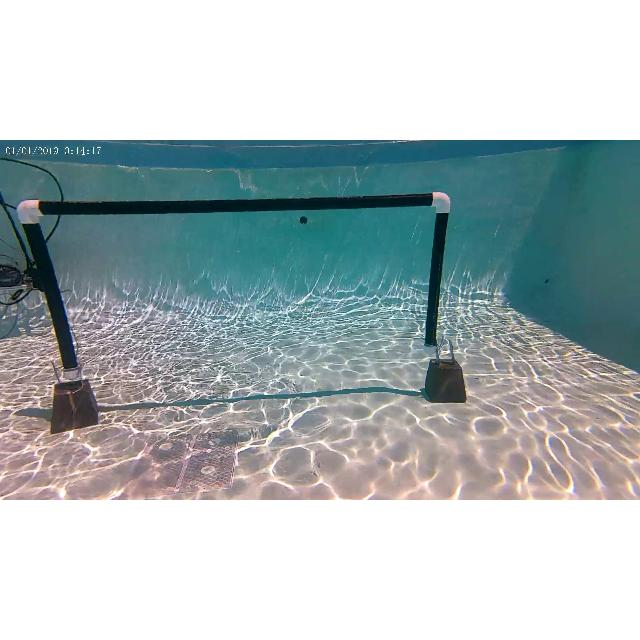prequal gate: (19, 192, 452, 380)
prequal gate leg l: (15, 198, 83, 376)
prequal gate leg r: (423, 192, 452, 351)
